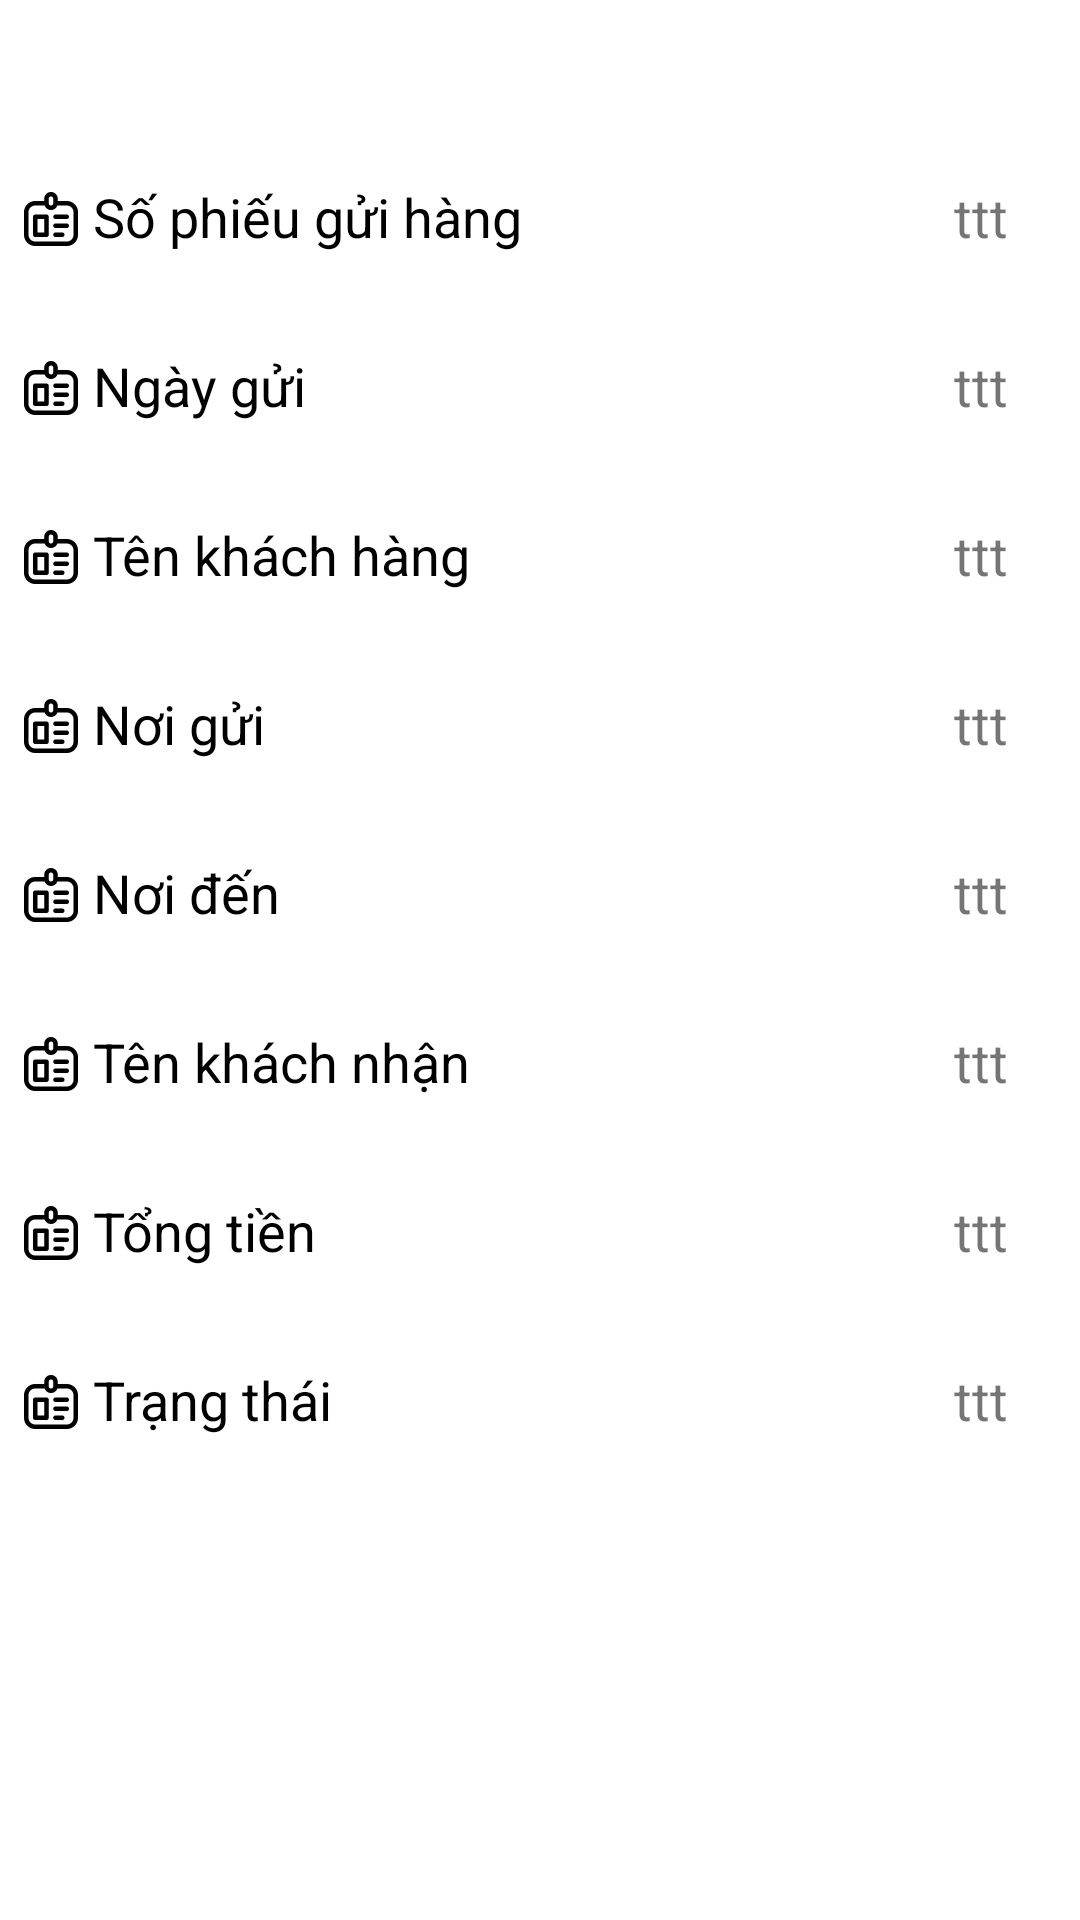

Icon bounding boxes for this 1080px x 1920px phone screenshot, format BBox(x1, y1, x2, y2):
id badge: BBox(24, 192, 78, 246), BBox(24, 361, 78, 415), BBox(24, 530, 78, 584), BBox(24, 699, 78, 753), BBox(24, 868, 78, 922), BBox(24, 1037, 78, 1091), BBox(24, 1206, 78, 1260), BBox(24, 1375, 78, 1429)
